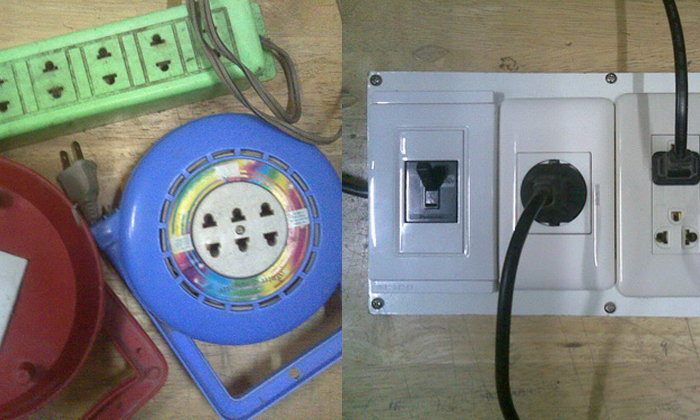Three_eye_plug: (94, 103, 344, 420), (1, 1, 278, 150), (614, 92, 700, 294)
